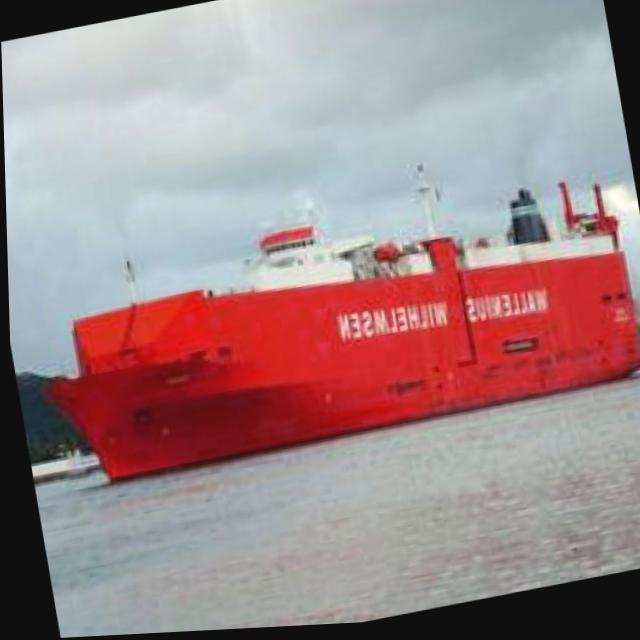ship2: (41, 168, 640, 484)
